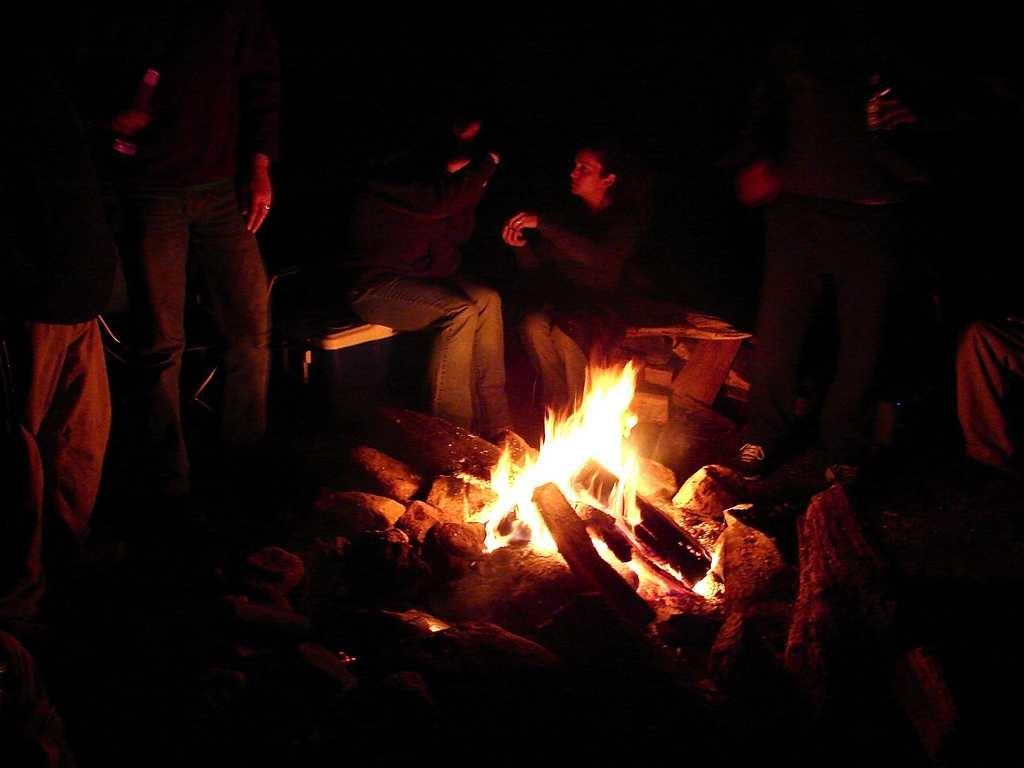fire: (577, 360, 646, 474), (527, 440, 570, 494)
